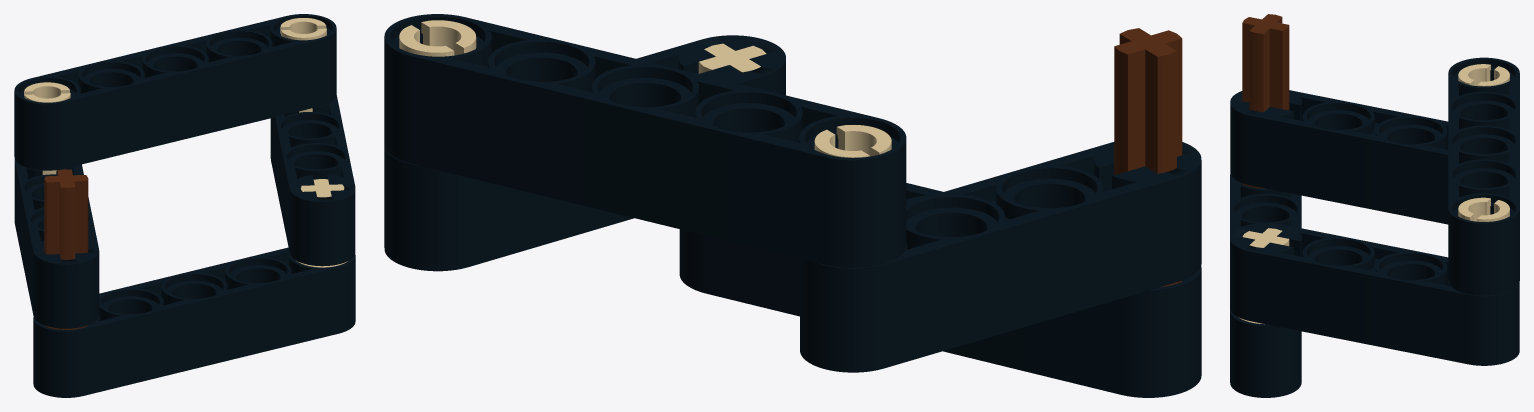
The model's file is parallel_movement.glb.
The picture shows the model from 3 angles, left to right: view 1: azimuth 30°, elevation 25°; view 2: azimuth 150°, elevation 25°; view 3: azimuth 270°, elevation 25°; orthographic projection. The views are drawn at different scales.
Parts seen in each view (by area): view 1: 32316.dat.001, 32316.dat, 32449.dat.001, 32449.dat.003, 24316.dat, 32449.dat.002, 32449.dat, 3749.dat.002, 3749.dat.001, 3749.dat; view 2: 32316.dat.001, 32449.dat.003, 32316.dat, 32449.dat.002, 32449.dat, 24316.dat, 32449.dat.001, 3749.dat.002, 3749.dat.001, 3749.dat; view 3: 32449.dat.001, 32316.dat.001, 32449.dat.003, 32449.dat, 32316.dat, 32449.dat.002, 24316.dat, 3749.dat.002, 3749.dat.001, 3749.dat.
Boxes of the visible parts, x1,y1,x2,y2 form: 32316.dat.001: (14,14,336,170); 32316.dat: (33,247,355,397); 32449.dat.001: (270,95,355,233); 32449.dat.003: (14,159,99,296); 24316.dat: (44,169,88,329); 32449.dat.002: (14,191,99,328); 32449.dat: (270,126,355,266); 3749.dat.002: (280,18,326,112); 3749.dat.001: (24,82,70,174); 3749.dat: (295,179,347,267); 32316.dat.001: (384,14,906,267); 32449.dat.003: (800,142,1201,321); 32316.dat: (679,183,1201,397); 32449.dat.002: (800,211,1201,372); 32449.dat: (384,194,633,271); 24316.dat: (1114,28,1182,287); 32449.dat.001: (384,35,785,217); 3749.dat.002: (399,20,476,56); 3749.dat.001: (814,125,891,157); 3749.dat: (698,43,766,73); 32449.dat.001: (1230,223,1519,331); 32316.dat.001: (1448,57,1519,295); 32449.dat.003: (1230,90,1448,190); 32449.dat: (1230,276,1519,365); 32316.dat: (1230,174,1301,397); 32449.dat.002: (1230,140,1448,224); 24316.dat: (1242,14,1289,188); 3749.dat.002: (1458,197,1509,221); 3749.dat.001: (1458,64,1509,86); 3749.dat: (1238,228,1289,324).
Bounding box in the file's own units: 1.23 × 0.6129 × 0.7213.
